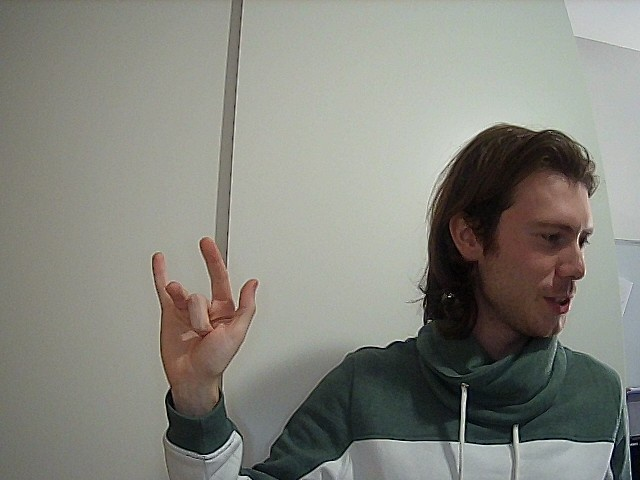reset: (133, 227, 283, 398)
